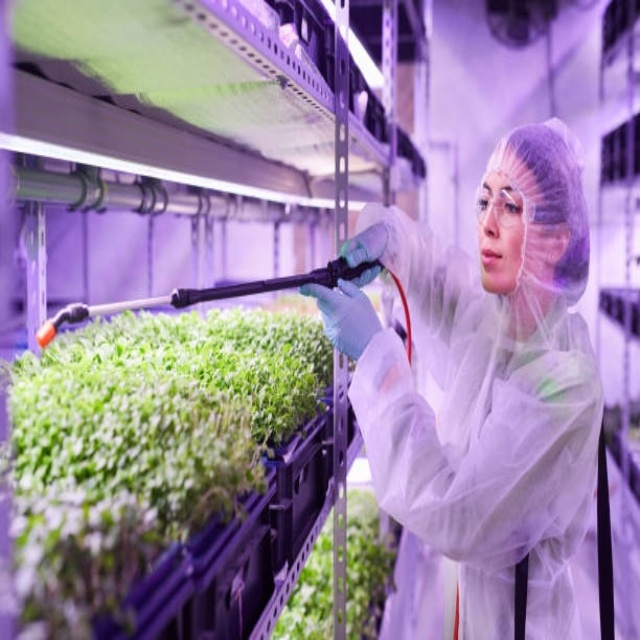Gafas: (474, 185, 538, 229)
Guantes: (303, 275, 384, 363), (322, 222, 389, 289)
Sin_mascara: (479, 238, 510, 292)
